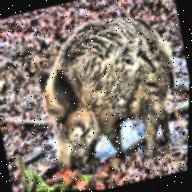boar: (20, 0, 192, 171)
